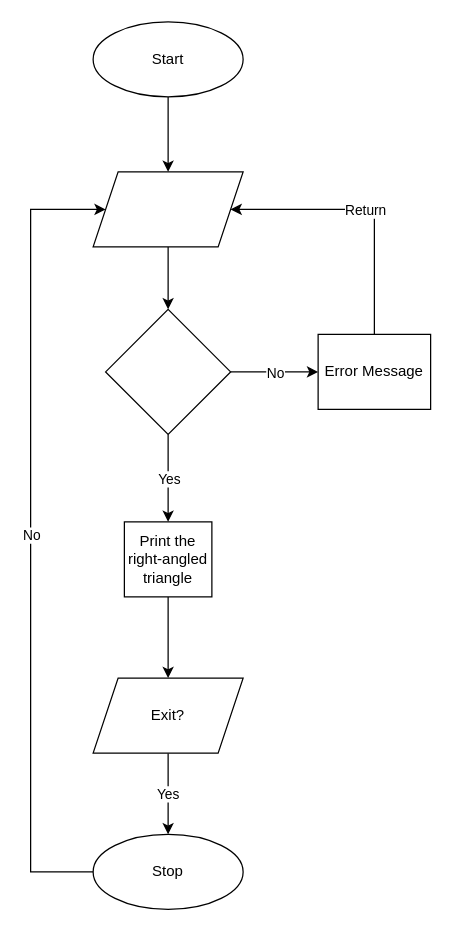
Some shapes in this 453 by 931 pixel diagram are drawn without their labels. Each missing label, with the centre of its shape:
Ask for input: the point at 167,209
Is the input valid?: the point at 167,371
